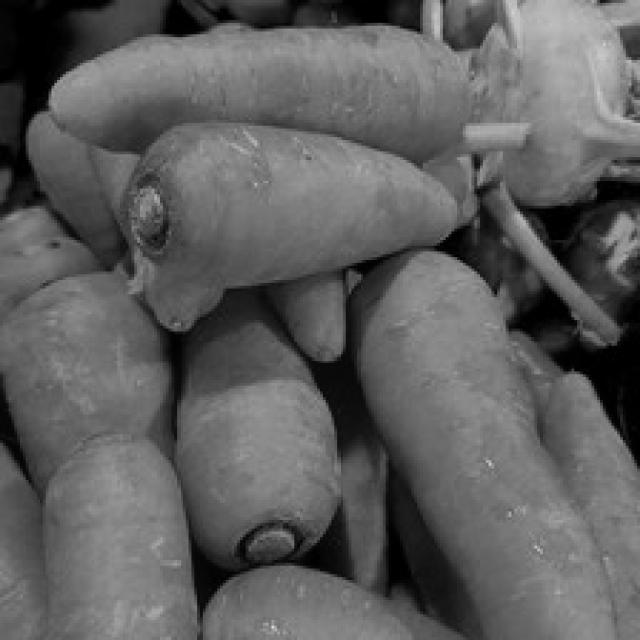Fresh_Carrot: (350, 258, 640, 640), (46, 2, 478, 134), (141, 129, 476, 260), (40, 437, 220, 640)
